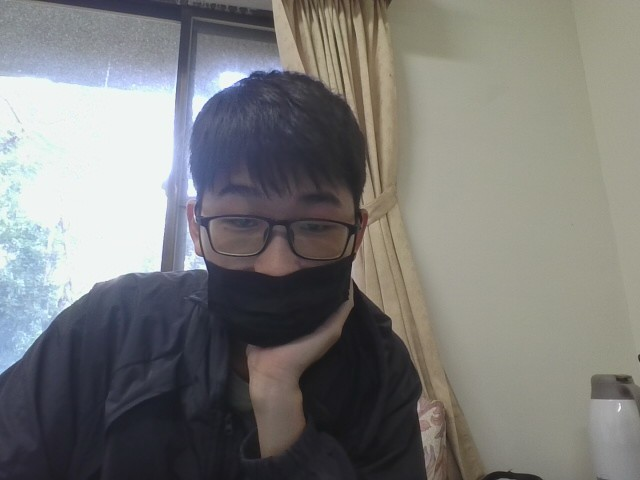No_Helmet: (184, 64, 372, 277)
person: (0, 56, 492, 480)
